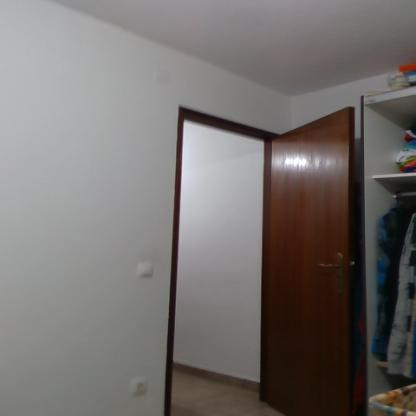open: (157, 92, 374, 411)
